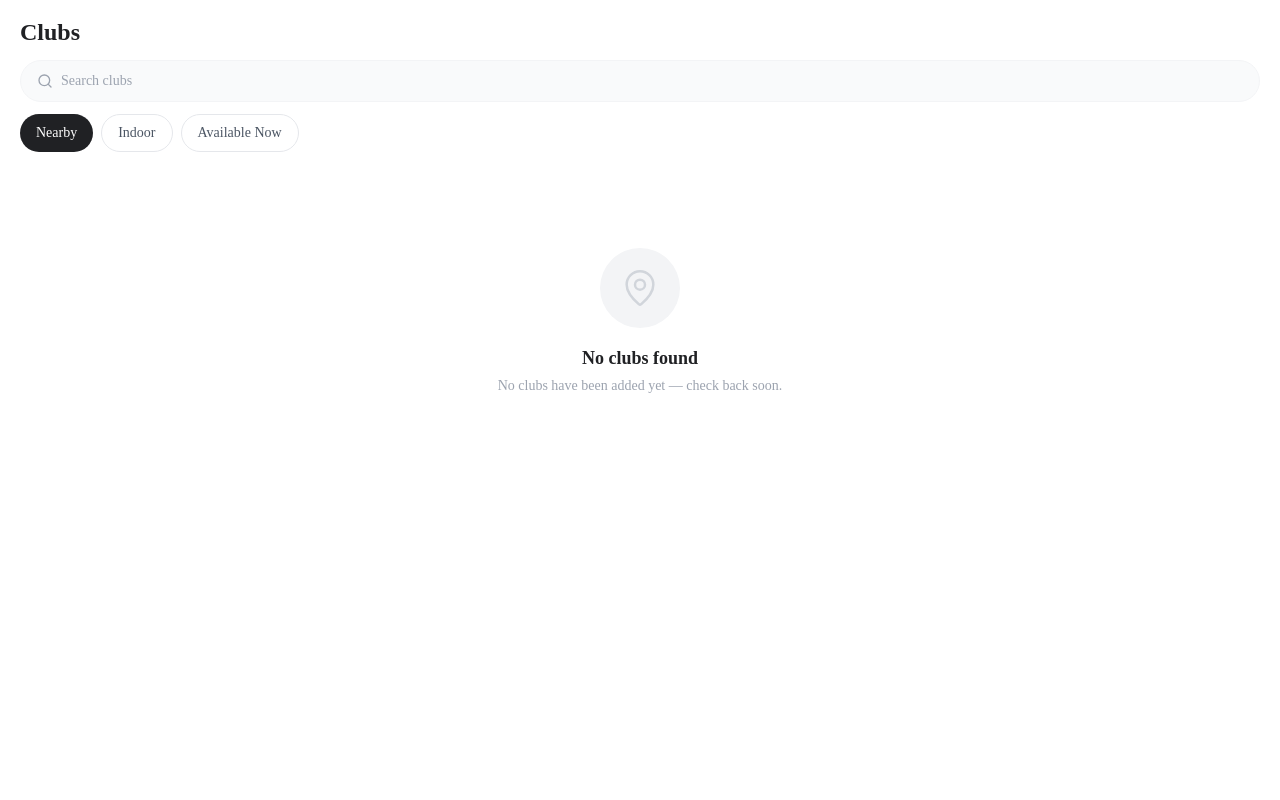
Scenario: Clubs page — dynamic search suggestion chips › tapping a chip pins the venue list to the neighborhood (toggle filter)
Focus the field labelled "Search clubs" at (652, 81), box [61,71,1243,91]
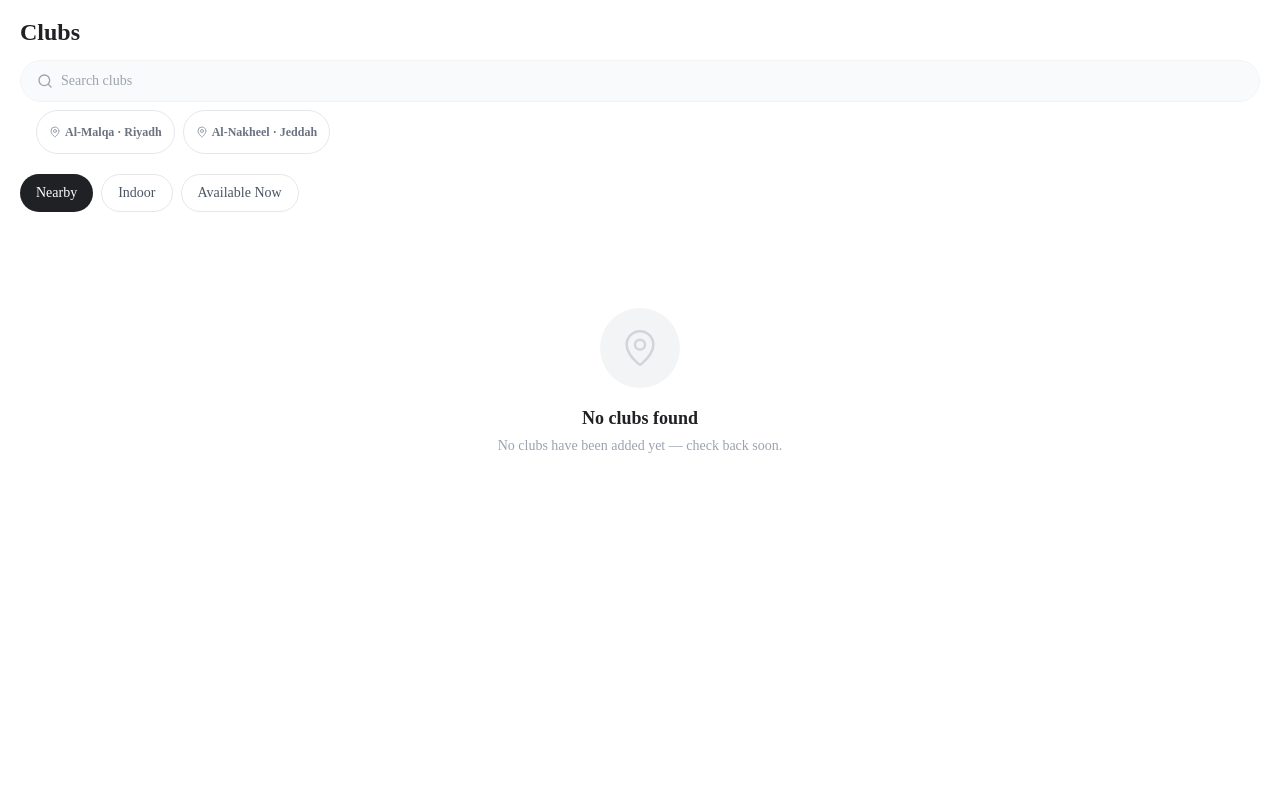
Click the button with test id "search-suggestion-chip" at (256, 132), box [183,110,330,154]
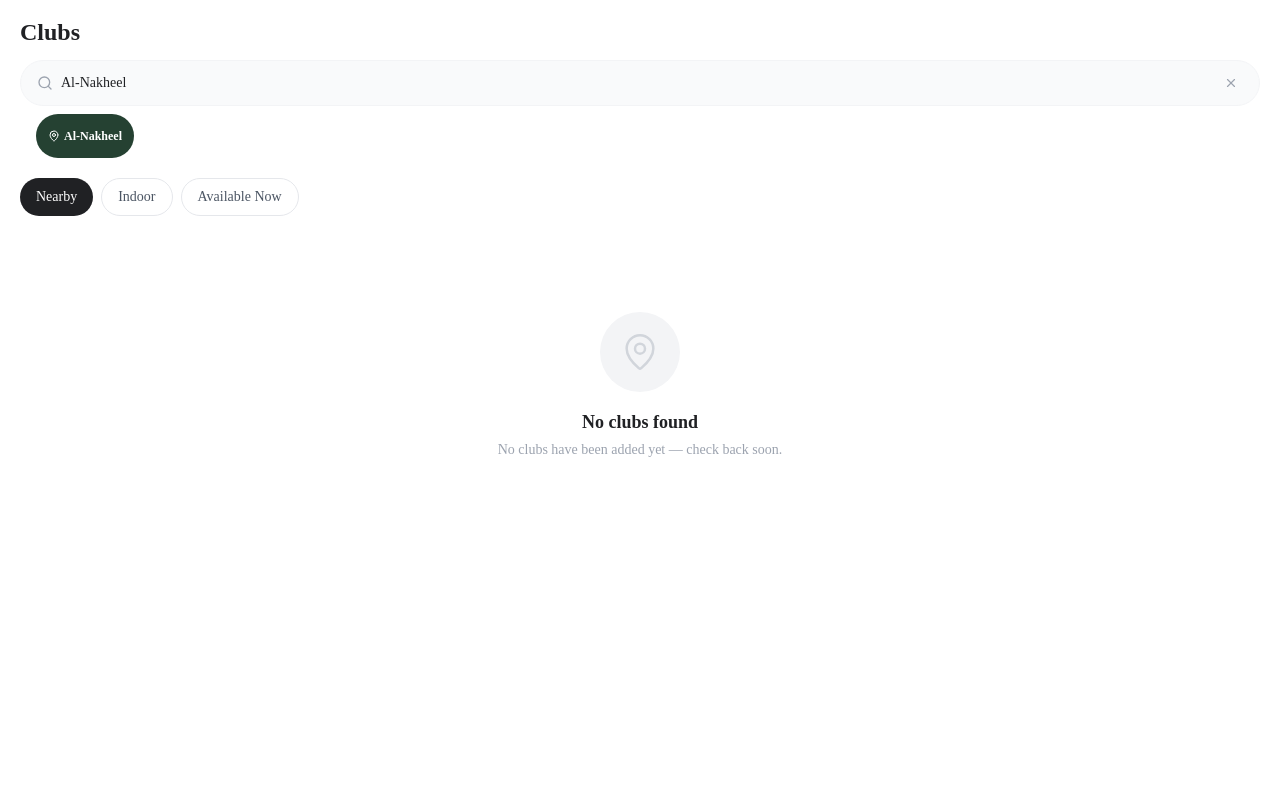
Check: the field named "Search clubs" holds "Al-Nakheel", box [61,73,1211,93]
